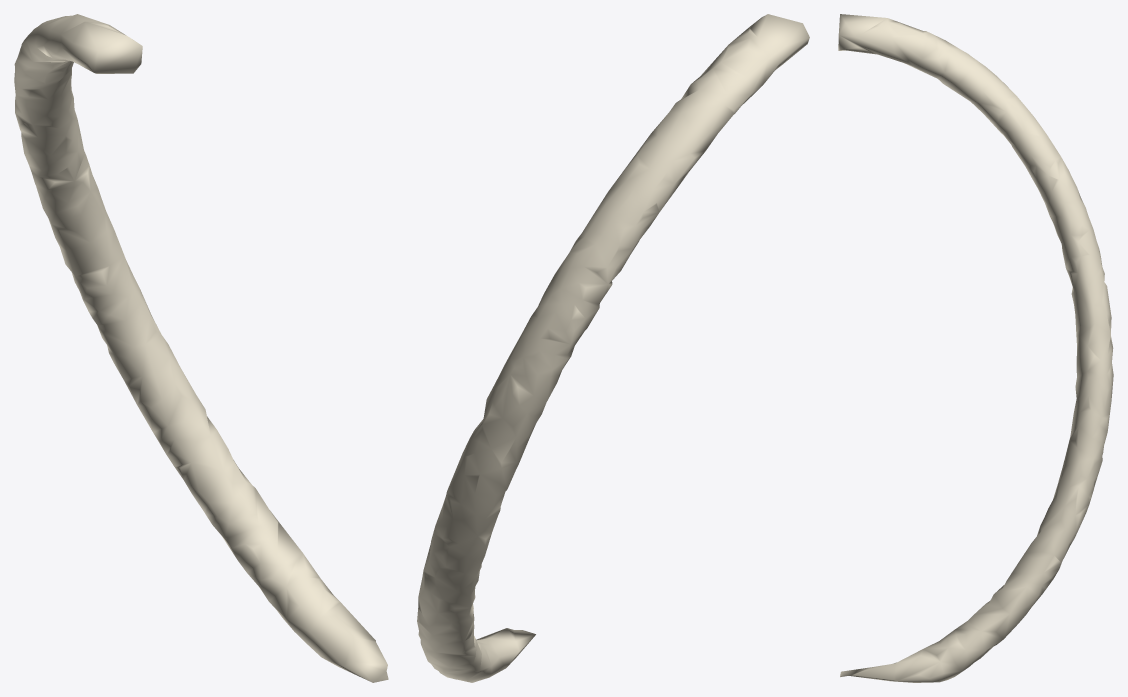
The model's file is rib_2_r.glb.
3 renders of one model, left to right at view 1: azimuth 30°, elevation 25°; view 2: azimuth 150°, elevation 25°; view 3: azimuth 270°, elevation 25°, orthographic. The views are drawn at different scales.
Parts seen in each view (by area): view 1: geometry_0; view 2: geometry_0; view 3: geometry_0.
Boxes of the visible parts, x1=… form: geometry_0: x1=14, y1=14, x2=388, y2=682; geometry_0: x1=417, y1=14, x2=809, y2=682; geometry_0: x1=838, y1=14, x2=1113, y2=682.
Bounding box in the file's own units: 0.2086 × 0.4371 × 0.1957.
